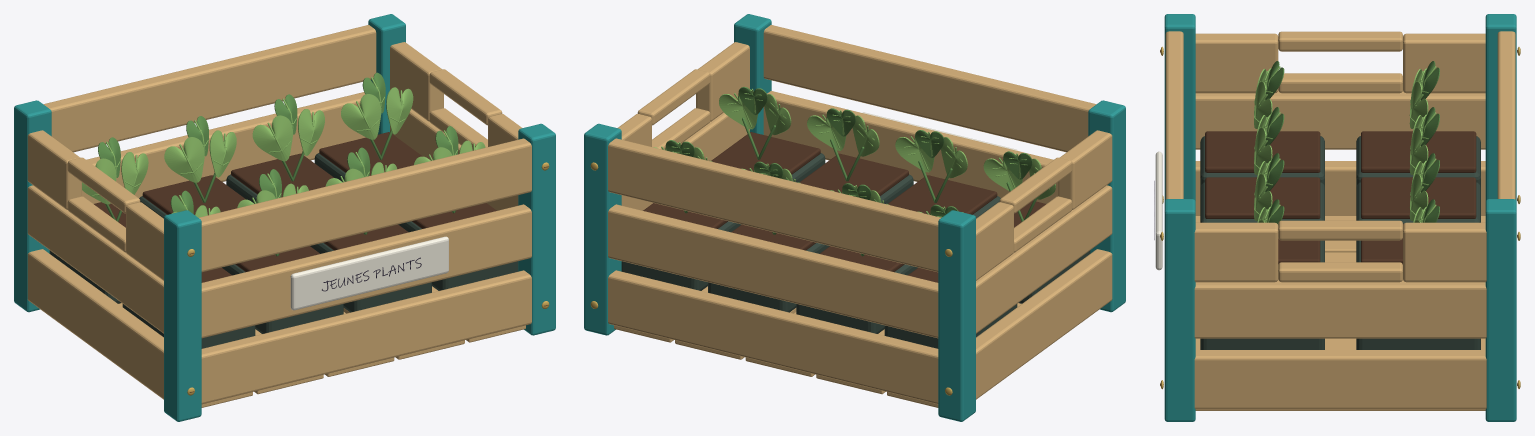
Rendered from crate_seedlings.glb.
3 views of the same model, side by side, from view 1: azimuth 30°, elevation 25°; view 2: azimuth 150°, elevation 25°; view 3: azimuth 270°, elevation 25° (orthographic). The views are drawn at different scales.
Visible parts, largest first — view 1: Front_rear_slat.005, Front_rear_slat.003, Front_rear_slat.002, Front_rear_slat.004, Side_lower_slat, Corner_upright.001, Side_lower_slat.001, Removable_inventory_label, Front_rear_slat.001, Corner_upright.003, Corner_upright, Side_handle_cheek (+27 smaller); view 2: Front_rear_slat.002, Front_rear_slat.001, Front_rear_slat, Front_rear_slat.005, Side_lower_slat, Corner_upright, Side_lower_slat.001, Front_rear_slat.004, Corner_upright.002, Corner_upright.001, Side_handle_cheek.001, Soil_cell_fill.006 (+29 smaller); view 3: Side_lower_slat.002, Side_lower_slat.003, Side_lower_slat.001, Corner_upright.003, Corner_upright.002, Side_handle_cheek.003, Side_handle_cheek.002, Side_handle_cheek.001, Side_handle_cheek, Soil_cell_fill.004, Soil_cell_fill.005, Soil_cell_fill.001 (+35 smaller).
Part boxes in pixels (x1=…): Front_rear_slat.005: x1=198, y1=138, x2=531, y2=272; Front_rear_slat.003: x1=201, y1=270, x2=531, y2=404; Front_rear_slat.002: x1=43, y1=25, x2=376, y2=152; Front_rear_slat.004: x1=201, y1=204, x2=531, y2=338; Side_lower_slat: x1=27, y1=249, x2=163, y2=399; Corner_upright.001: x1=164, y1=210, x2=201, y2=421; Side_lower_slat.001: x1=27, y1=185, x2=163, y2=333; Removable_inventory_label: x1=290, y1=236, x2=448, y2=310; Front_rear_slat.001: x1=82, y1=92, x2=365, y2=203; Corner_upright.003: x1=518, y1=123, x2=555, y2=335; Corner_upright: x1=14, y1=100, x2=51, y2=312; Side_handle_cheek: x1=27, y1=130, x2=81, y2=209; Front_rear_slat.002: x1=608, y1=138, x2=941, y2=272; Front_rear_slat.001: x1=608, y1=204, x2=938, y2=338; Front_rear_slat: x1=608, y1=270, x2=938, y2=404; Front_rear_slat.005: x1=763, y1=25, x2=1096, y2=152; Side_lower_slat: x1=976, y1=249, x2=1112, y2=399; Corner_upright: x1=938, y1=210, x2=975, y2=421; Side_lower_slat.001: x1=976, y1=185, x2=1112, y2=333; Front_rear_slat.004: x1=763, y1=91, x2=1057, y2=203; Corner_upright.002: x1=584, y1=123, x2=621, y2=335; Corner_upright.001: x1=1088, y1=100, x2=1125, y2=312; Side_handle_cheek.001: x1=1058, y1=130, x2=1112, y2=209; Soil_cell_fill.006: x1=799, y1=153, x2=908, y2=195; Side_lower_slat.002: x1=1194, y1=350, x2=1486, y2=409; Side_lower_slat.003: x1=1194, y1=279, x2=1486, y2=338; Side_lower_slat.001: x1=1195, y1=90, x2=1485, y2=149; Corner_upright.003: x1=1164, y1=199, x2=1195, y2=421; Corner_upright.002: x1=1485, y1=199, x2=1516, y2=421; Side_handle_cheek.003: x1=1194, y1=222, x2=1278, y2=282; Side_handle_cheek.002: x1=1403, y1=222, x2=1486, y2=282; Side_handle_cheek.001: x1=1195, y1=33, x2=1278, y2=93; Side_handle_cheek: x1=1403, y1=33, x2=1485, y2=93; Soil_cell_fill.004: x1=1205, y1=131, x2=1320, y2=172; Soil_cell_fill.005: x1=1205, y1=177, x2=1320, y2=218; Soil_cell_fill.001: x1=1361, y1=177, x2=1476, y2=218.
Size of the model in its own units: 0.602 by 0.3 by 0.4703.
